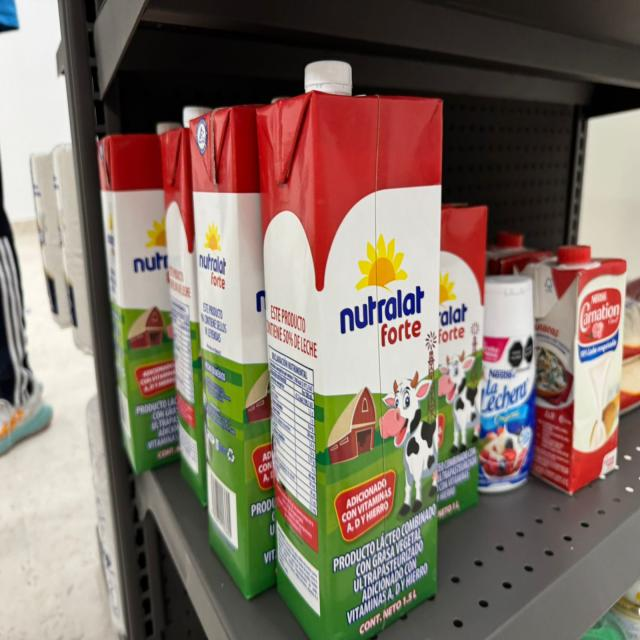Azucar Estandar La Posada 1 kg: (624, 283, 640, 358), (620, 356, 640, 414)
CARNATION Leche Evaporada 720g: (524, 245, 626, 497), (486, 230, 555, 276)
DOLORES ENSALADA CON VERDURAS MAXI CUP CAN 240gr: (581, 612, 626, 639)
La Lechera Sirve Facil 335gr Bote: (478, 274, 537, 496)
PLC NUTRALAT FORTE 1 LT: (436, 198, 487, 527)
PLC NUTRALAT FORTE 1.5 LT: (256, 62, 443, 639), (188, 94, 301, 600), (94, 124, 182, 478), (161, 106, 215, 510)
